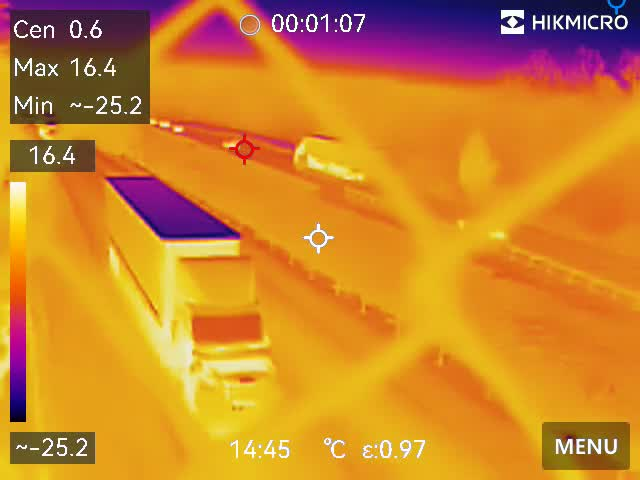heavyTruck: (102, 167, 281, 448), (291, 132, 390, 184)
vehicle: (158, 117, 170, 129), (169, 122, 181, 132), (149, 117, 157, 127)
